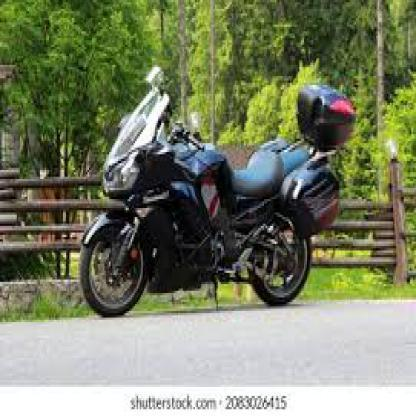Motorcycle: (75, 66, 353, 318)
